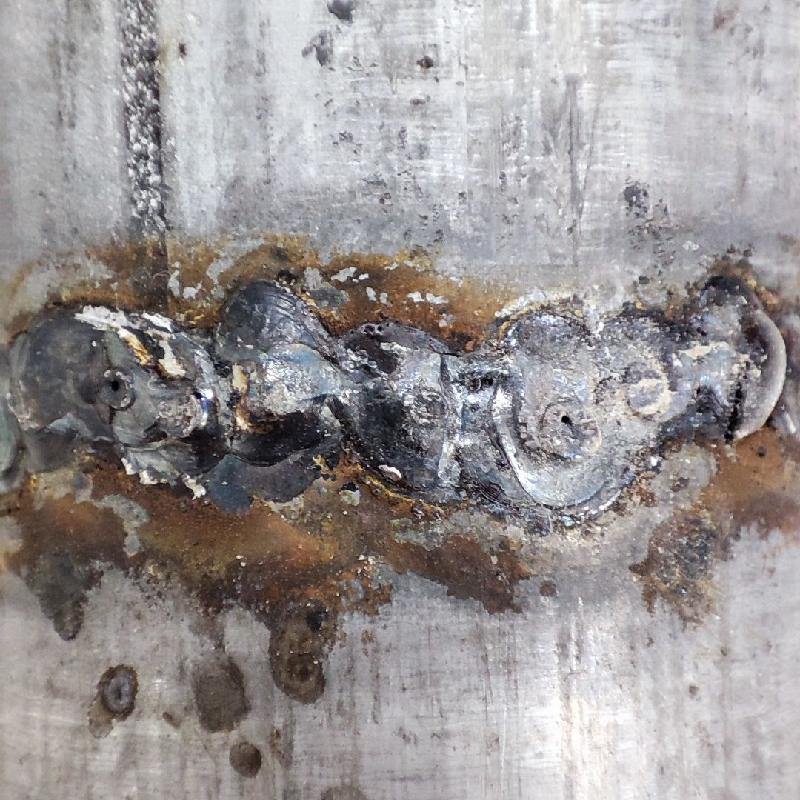Not_fully_soldered: (469, 299, 706, 523)
Surface_pores: (549, 394, 600, 455), (91, 362, 138, 408)
wrong_size: (3, 277, 473, 527), (703, 269, 799, 445)
